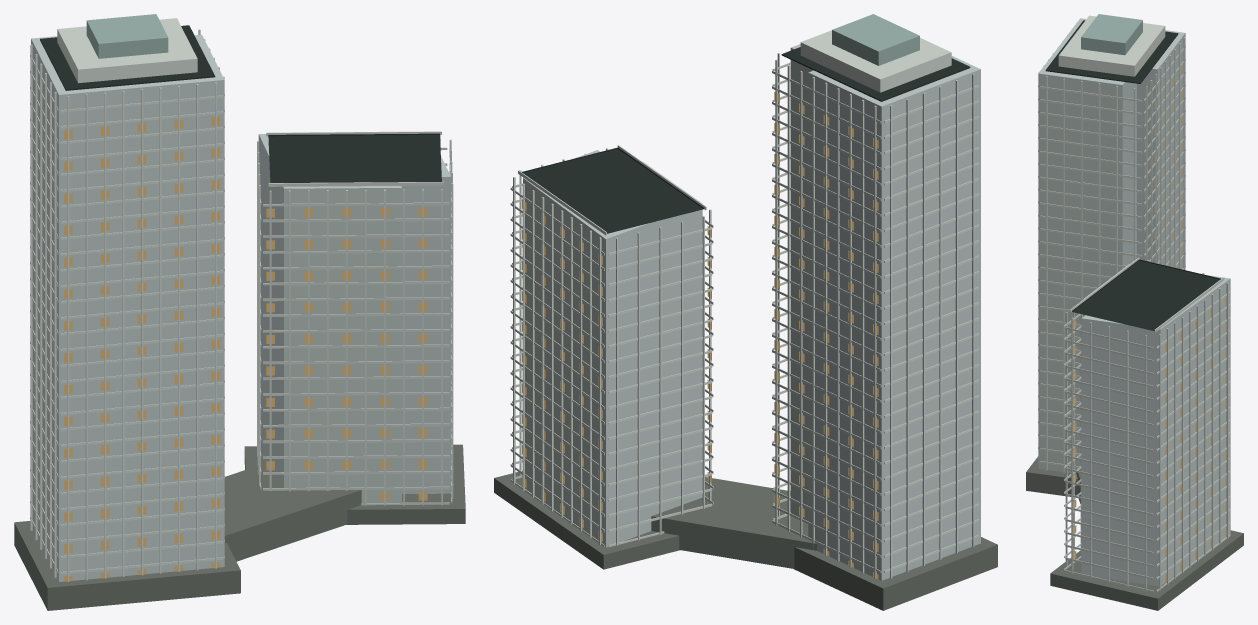
Rendered from lenovo-houhai.glb.
3 renders of one model, left to right at view 1: azimuth 30°, elevation 25°; view 2: azimuth 150°, elevation 25°; view 3: azimuth 270°, elevation 25°, orthographic. The views are drawn at different scales.
Visible parts, largest first — view 1: envelope, fins, floor_bands, podium, roof_deck, night_windows, podium_link, crown_step, crown_screen, parapet; view 2: envelope, fins, floor_bands, podium, roof_deck, podium_link, night_windows, crown_step, crown_screen, parapet; view 3: envelope, fins, floor_bands, roof_deck, podium, crown_step, crown_screen, night_windows, parapet.
Boxes of the visible parts, x1,y1,x2,y2 form: envelope: (31,34,451,581); fins: (30,29,453,581); floor_bands: (30,55,452,574); podium: (14,444,465,610); roof_deck: (40,25,441,182); night_windows: (64,116,427,581); podium_link: (224,463,361,561); crown_step: (57,18,197,83); crown_screen: (86,14,168,58); parapet: (266,131,443,186); envelope: (523,44,980,580); fins: (513,53,974,578); floor_bands: (510,62,979,573); podium: (494,471,997,610); roof_deck: (522,47,970,233); podium_link: (651,477,816,568); night_windows: (522,92,878,579); crown_step: (800,30,951,92); crown_screen: (832,14,919,65); parapet: (518,145,706,235); envelope: (1038,18,1230,585); fins: (1038,22,1228,590); floor_bands: (1038,45,1230,592); roof_deck: (1045,20,1220,331); podium: (1026,456,1243,610); crown_step: (1058,15,1165,76); crown_screen: (1081,14,1142,55); night_windows: (1073,65,1226,581); parapet: (1070,257,1224,332).
Size of the model in its own units: 194 by 215 by 96.7.
